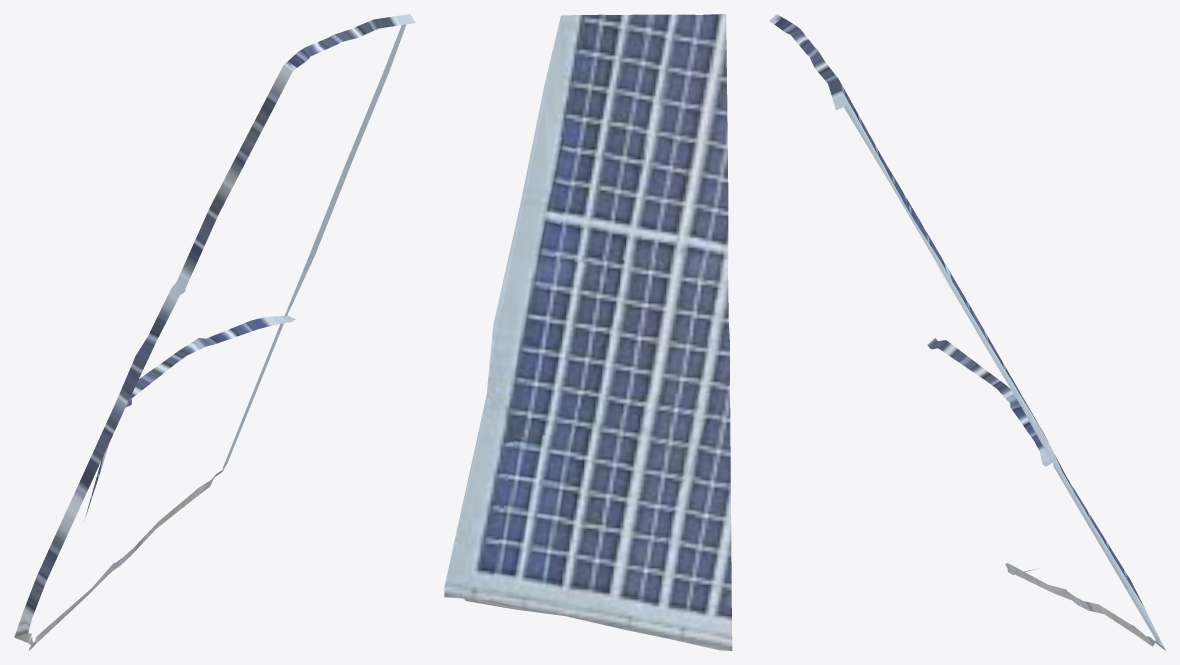
File: UlRPVEYubm9kZWRhdGEucGxhbmV0b2lkPWVhcnRoLG5vZGVfZGF0YV9lcG9jaD05MTYscGF0aD0zMTQzNDE1MjYwNzM2MjcxNDQ1NixjYWNoZV92ZXJzaW9uPTY.glb
3 views of the same model, side by side, from view 1: azimuth 30°, elevation 25°; view 2: azimuth 150°, elevation 25°; view 3: azimuth 270°, elevation 25° (orthographic). The views are drawn at different scales.
Size of the model in its own units: 14.52 by 29.51 by 17.06.
Materials: 1 (1 with a texture image).
